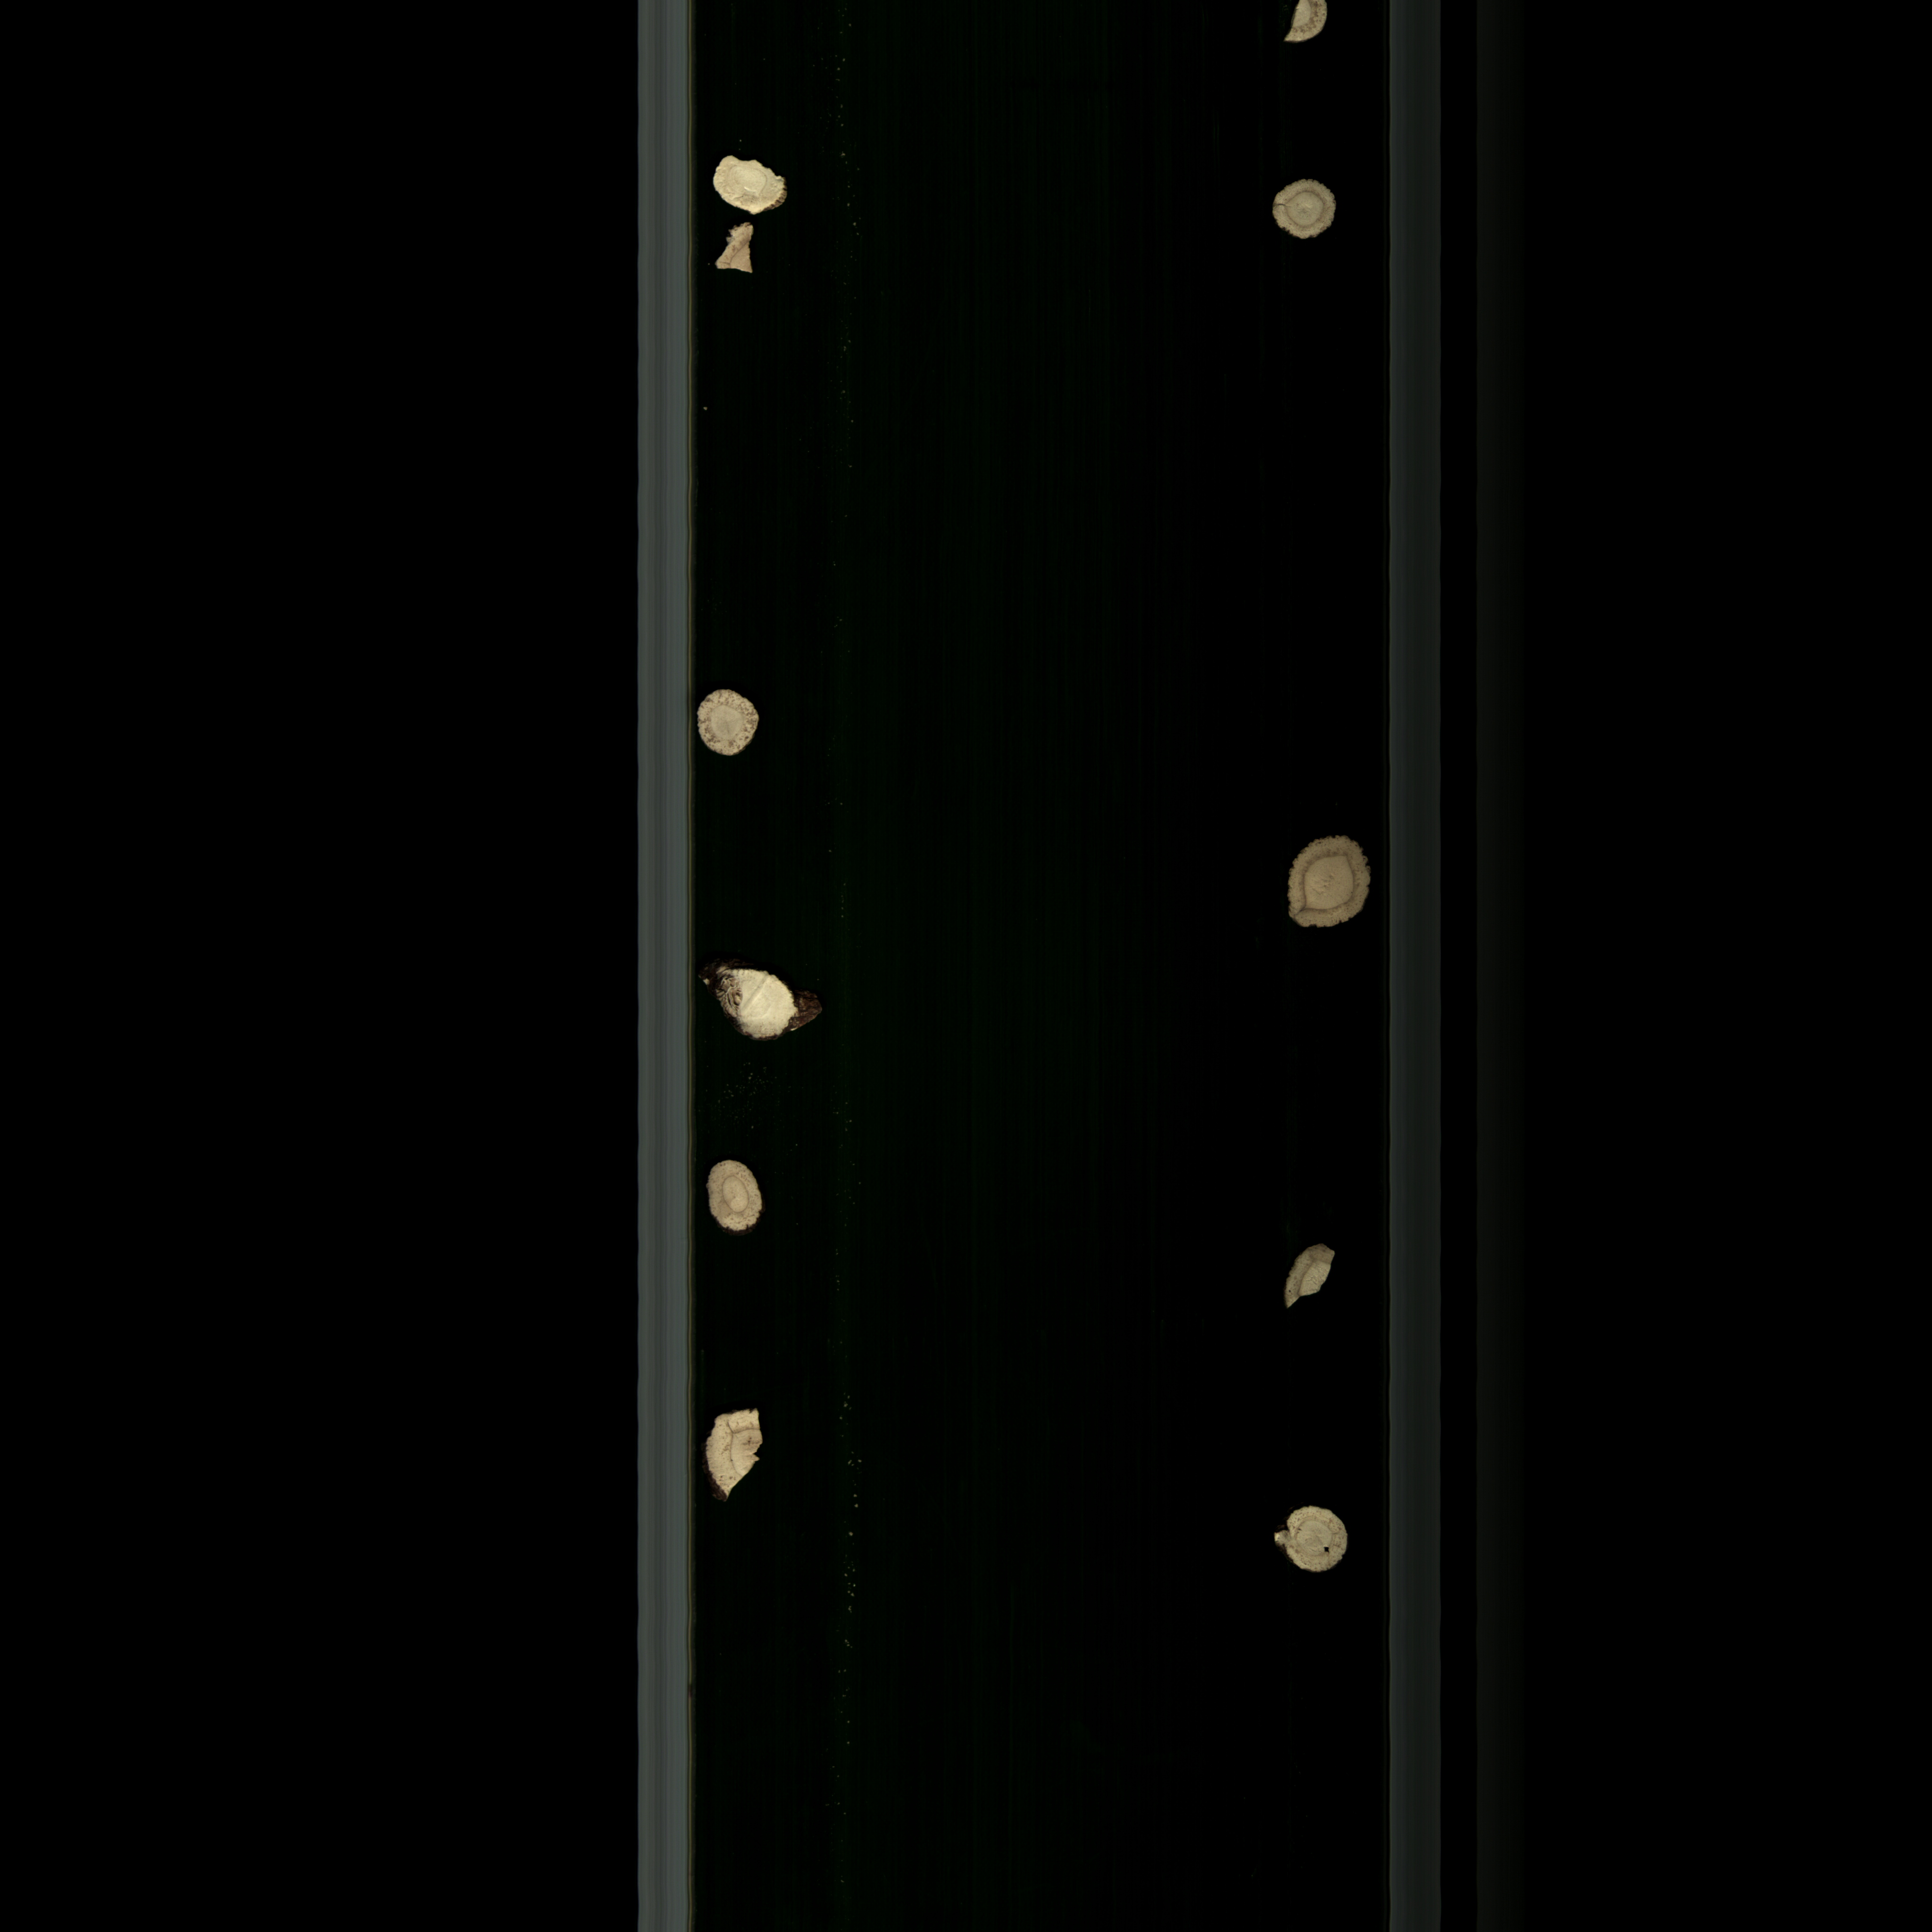bark: (686, 947, 844, 1058)
debris: (702, 1398, 770, 1516), (708, 145, 812, 221), (1276, 2, 1338, 55)
distortion: (1267, 1497, 1361, 1582)
dreg: (1277, 1231, 1341, 1318), (715, 221, 766, 288)
moldy: (1284, 826, 1378, 952), (692, 685, 773, 761), (1269, 173, 1343, 249)
